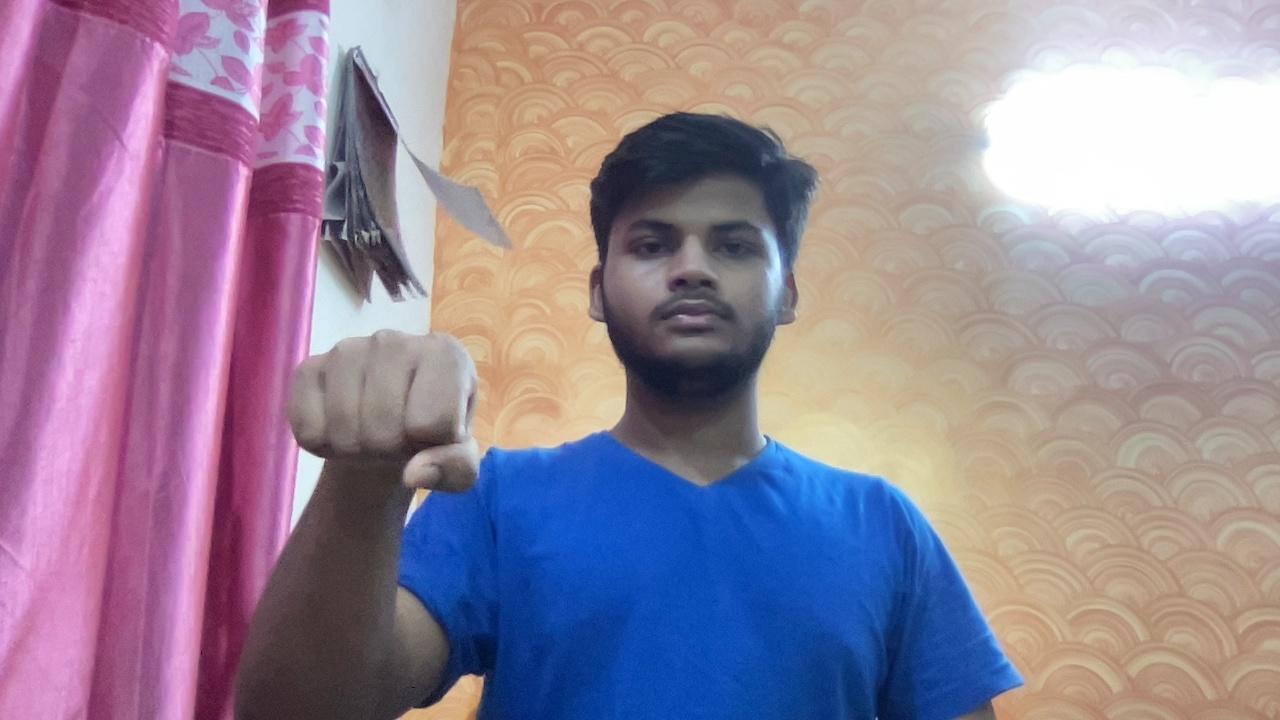yes: (246, 316, 511, 514)
